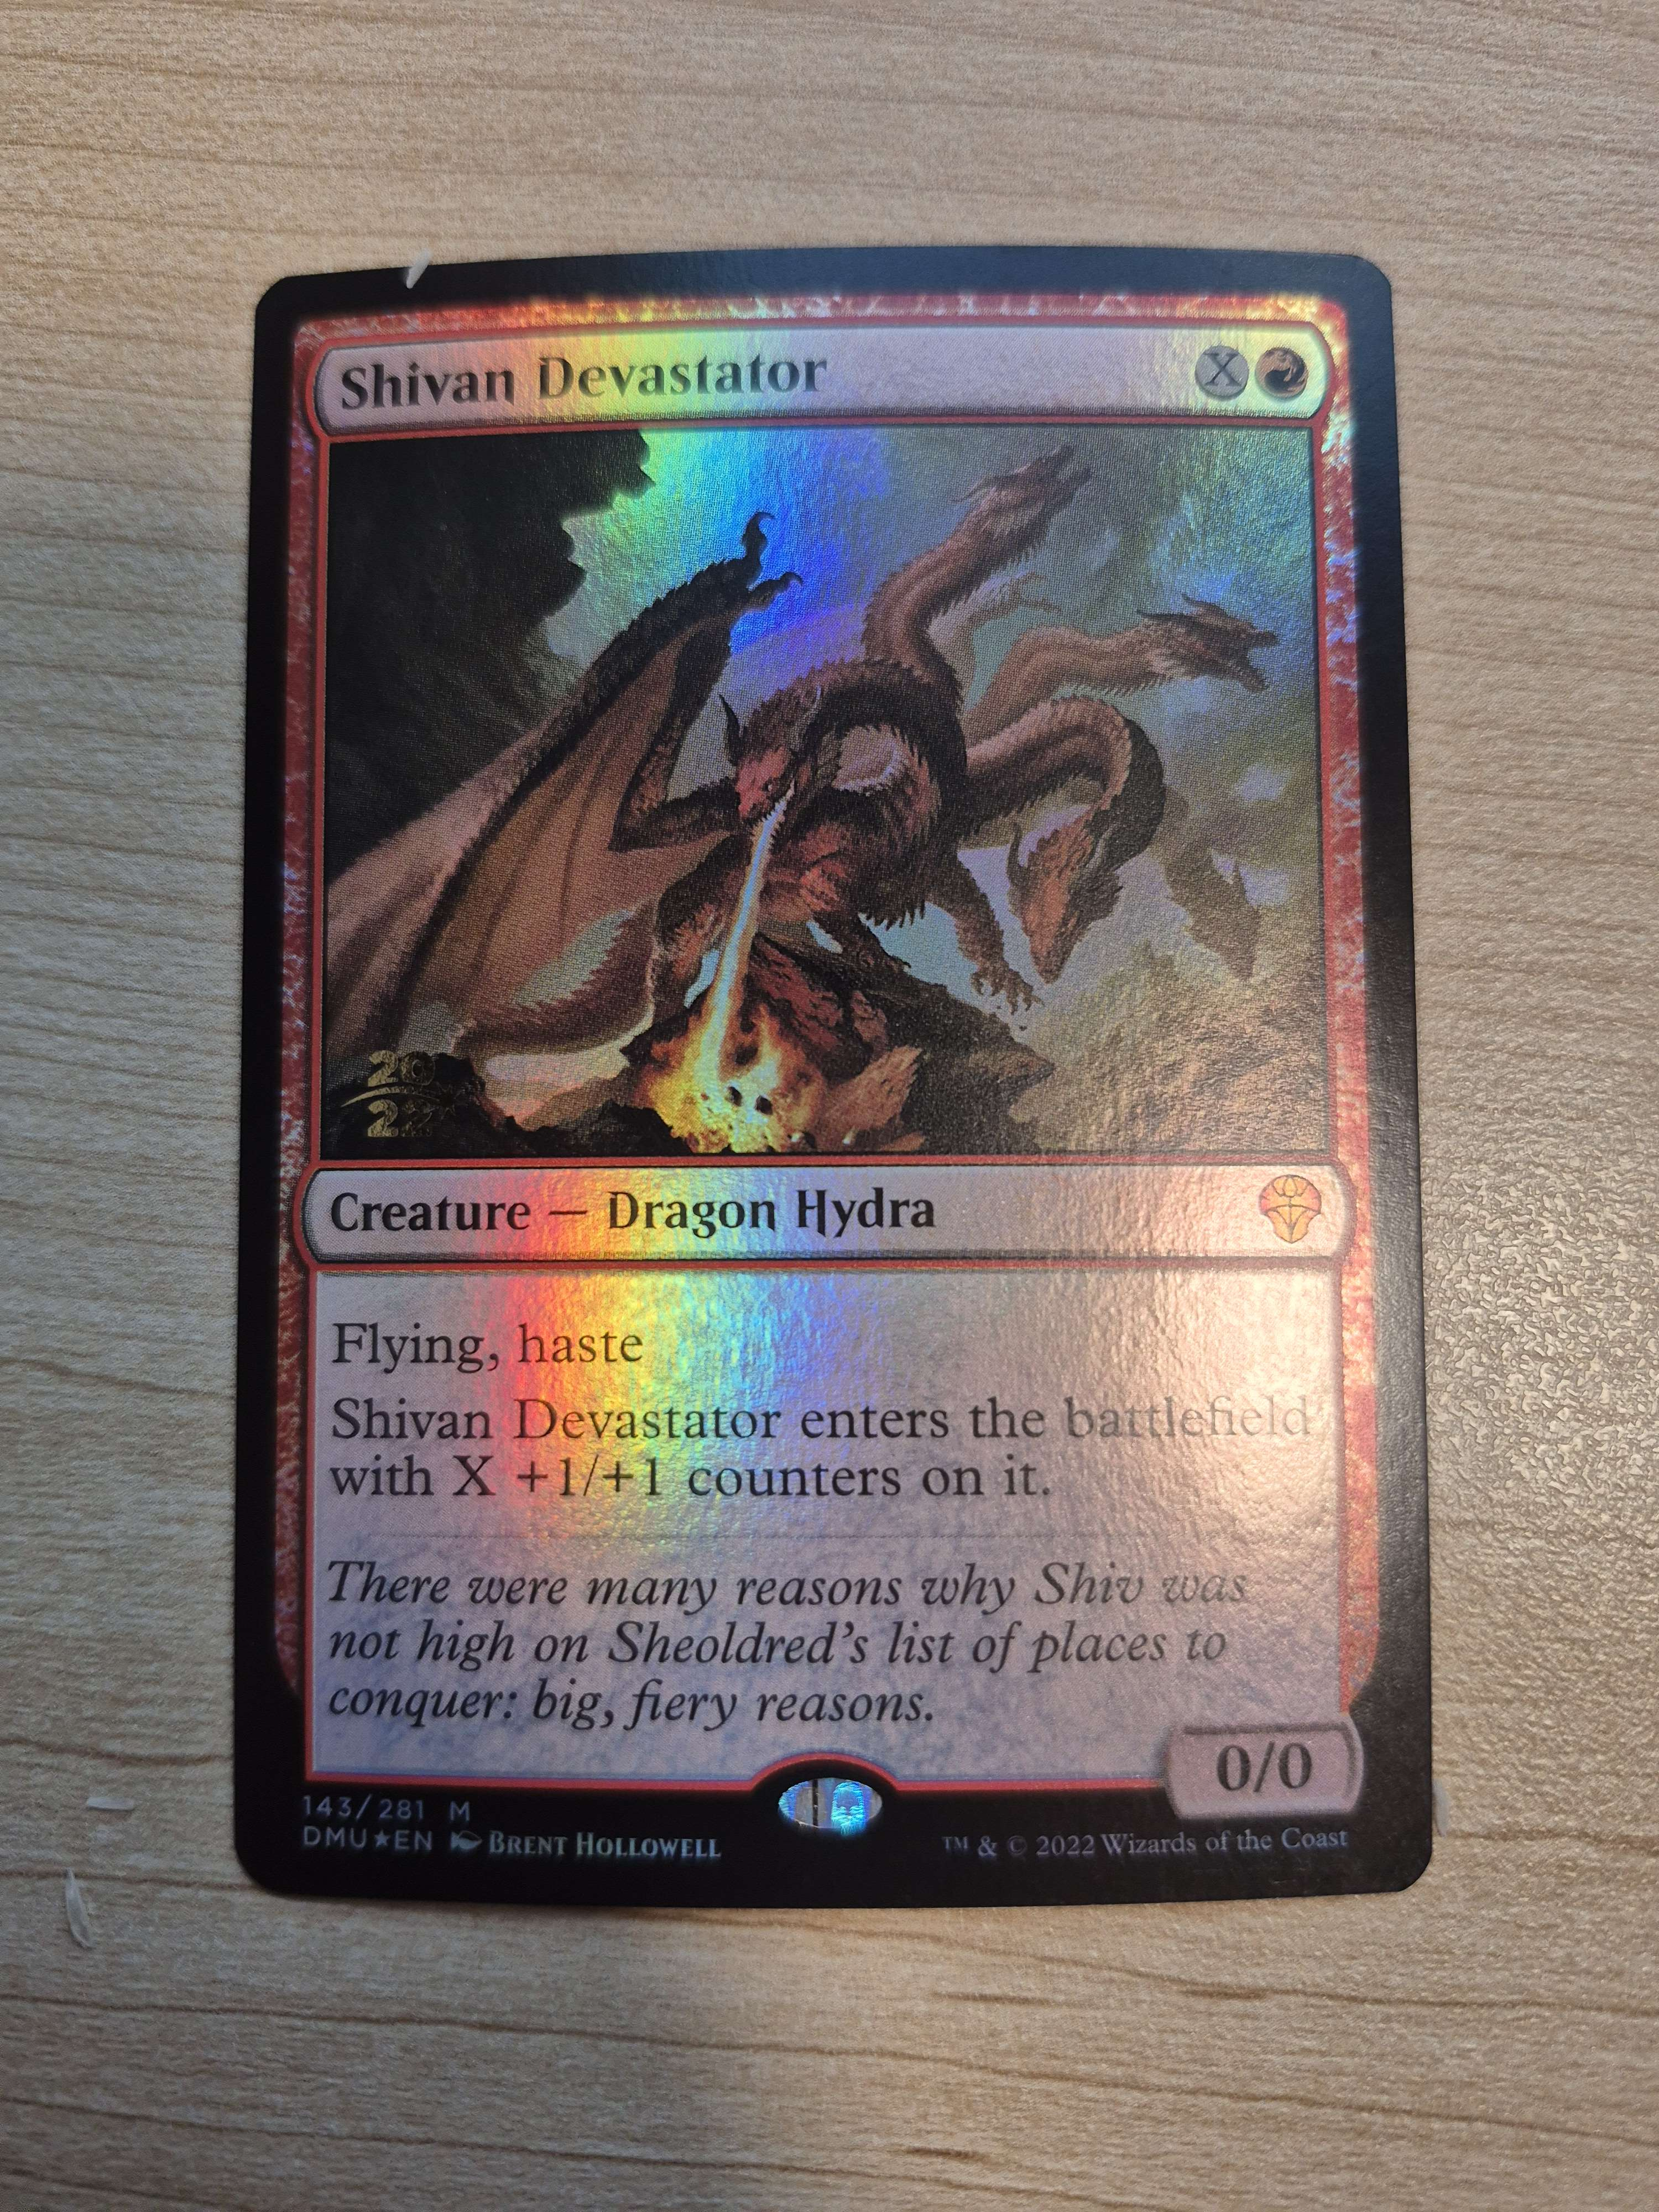mtg_card: (246, 242, 1469, 1928)
